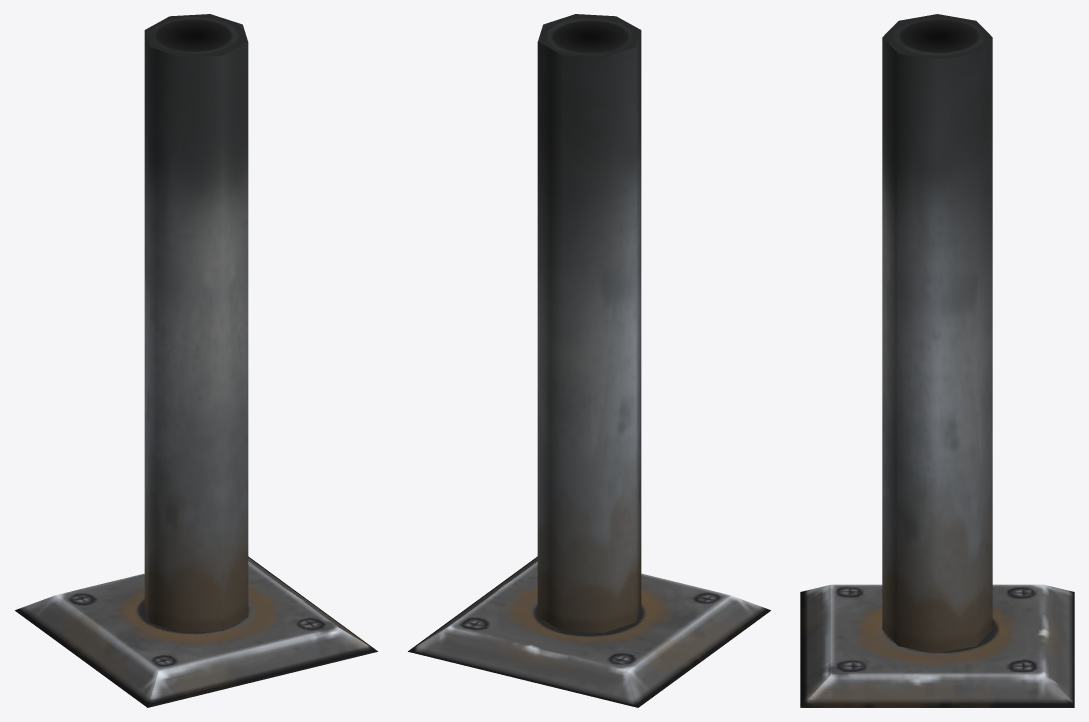
Rendered from chimney_roof10.fbx.
The picture shows the model from 3 angles, left to right: view 1: azimuth 30°, elevation 25°; view 2: azimuth 150°, elevation 25°; view 3: azimuth 270°, elevation 25°; orthographic projection. The views are drawn at different scales.
Visible parts, largest first — view 1: chimney_roof10; view 2: chimney_roof10; view 3: chimney_roof10.
Boxes of the visible parts, left/top/right/bottom form: chimney_roof10: left=15, top=14, right=377, bottom=707; chimney_roof10: left=408, top=14, right=770, bottom=707; chimney_roof10: left=800, top=14, right=1074, bottom=707.
Size of the model in its own units: 51.02 by 126 by 51.02.
